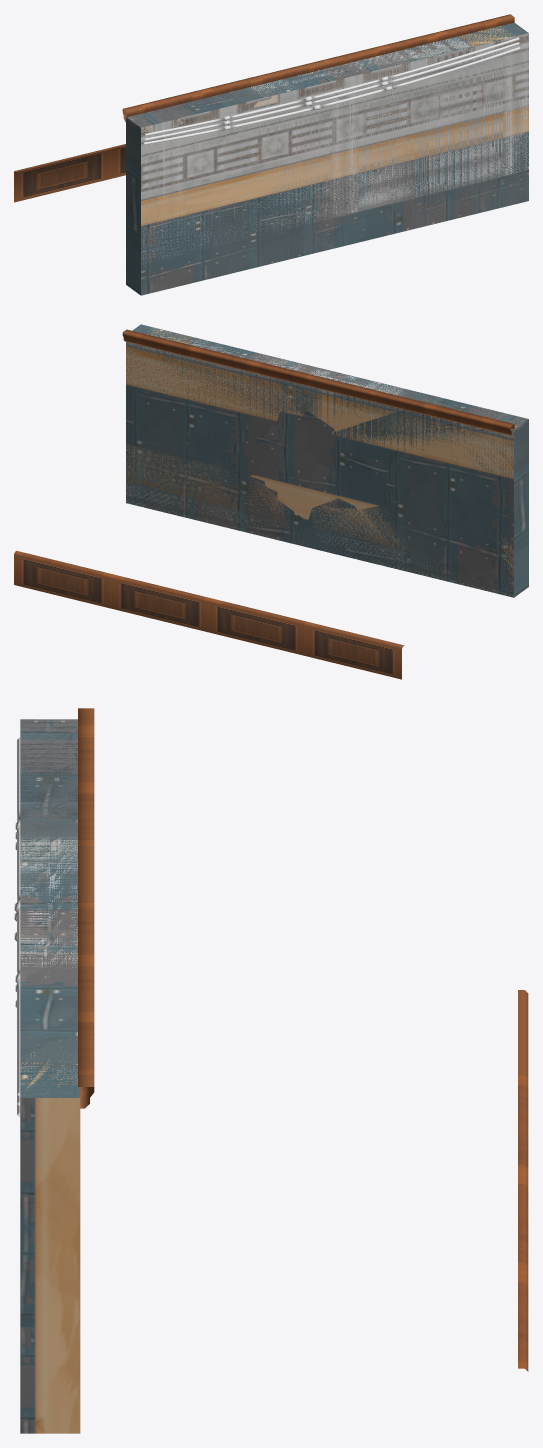
Rendered from WallSegments.fbx.
3 renders of one model, top to bottom at view 1: azimuth 30°, elevation 25°; view 2: azimuth 150°, elevation 25°; view 3: azimuth 270°, elevation 25°, orthographic. The views are drawn at different scales.
Parts seen in each view (by area): view 1: WallDestroyed, Wall03, WallCabels, WallBreak, WallLowerPanel; view 2: WallDestroyed, Wall03, WallLowerPanel, WallBreak; view 3: WallDestroyed, Wall03, WallBreak, WallLowerPanel, WallCabels.
Part boxes in pixels (x1,y1,x2,y2): WallDestroyed: [126, 22, 528, 295]; Wall03: [127, 23, 528, 295]; WallCabels: [144, 37, 520, 145]; WallBreak: [122, 14, 514, 121]; WallLowerPanel: [14, 144, 125, 202]; WallDestroyed: [126, 324, 528, 597]; Wall03: [126, 324, 528, 596]; WallLowerPanel: [14, 550, 404, 679]; WallBreak: [122, 329, 514, 435]; WallDestroyed: [20, 719, 80, 1433]; Wall03: [20, 719, 80, 1097]; WallBreak: [78, 708, 94, 1108]; WallLowerPanel: [518, 990, 528, 1371]; WallCabels: [14, 737, 20, 1117].
Bounding box in the file's own units: 1500 × 640 × 860.
